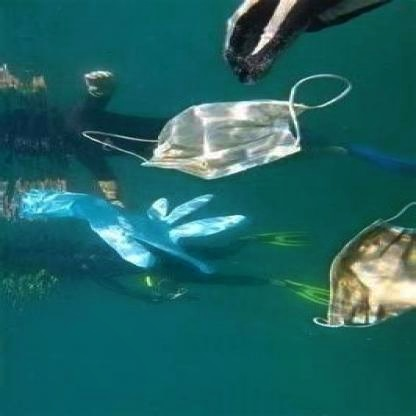Mask: (77, 74, 352, 183), (316, 204, 414, 331)
glove: (22, 190, 249, 282)
